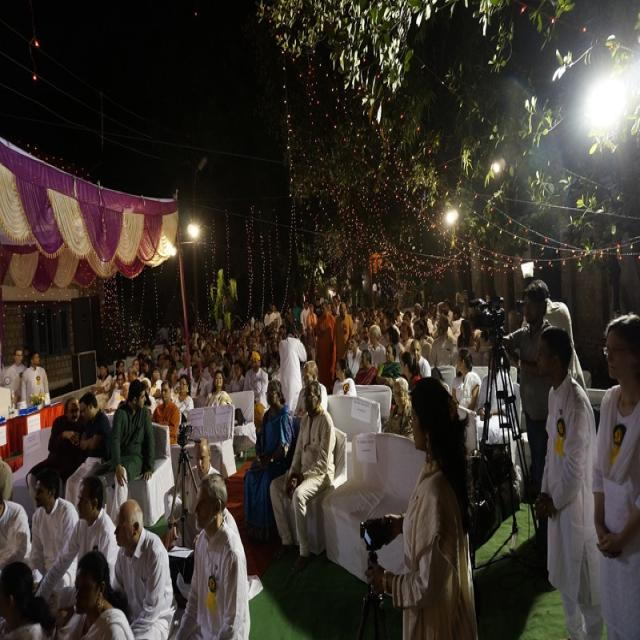body: (358, 370, 478, 639), (529, 324, 606, 638), (590, 310, 640, 639), (173, 471, 252, 640), (269, 380, 337, 574), (34, 473, 122, 612), (500, 276, 554, 496), (107, 498, 176, 639), (98, 378, 158, 523), (244, 379, 296, 545), (28, 467, 81, 621), (166, 435, 223, 550), (63, 390, 113, 521), (68, 551, 136, 640), (534, 298, 588, 391), (0, 556, 58, 639), (0, 459, 33, 568), (169, 325, 241, 369), (476, 368, 516, 446), (278, 322, 307, 415), (413, 294, 471, 338), (46, 395, 82, 462), (290, 360, 329, 421), (314, 298, 338, 392), (18, 348, 52, 412), (383, 375, 415, 439), (452, 348, 482, 414), (150, 379, 180, 445), (242, 350, 268, 426), (241, 301, 280, 349), (114, 346, 169, 378), (348, 297, 411, 324), (431, 314, 458, 369), (334, 301, 356, 361), (169, 373, 194, 425), (105, 371, 127, 428), (376, 342, 402, 388), (204, 368, 233, 408), (331, 356, 358, 398), (90, 361, 113, 410), (398, 349, 423, 392), (367, 322, 388, 372), (202, 361, 224, 408), (6, 345, 28, 391), (384, 322, 407, 363), (354, 348, 378, 385), (408, 338, 429, 379), (346, 332, 363, 379), (279, 300, 301, 334), (224, 360, 246, 393), (188, 362, 207, 400), (302, 287, 349, 302), (140, 377, 158, 415), (431, 366, 452, 394), (306, 302, 318, 342), (261, 350, 279, 374), (300, 298, 310, 337), (120, 380, 131, 400)
